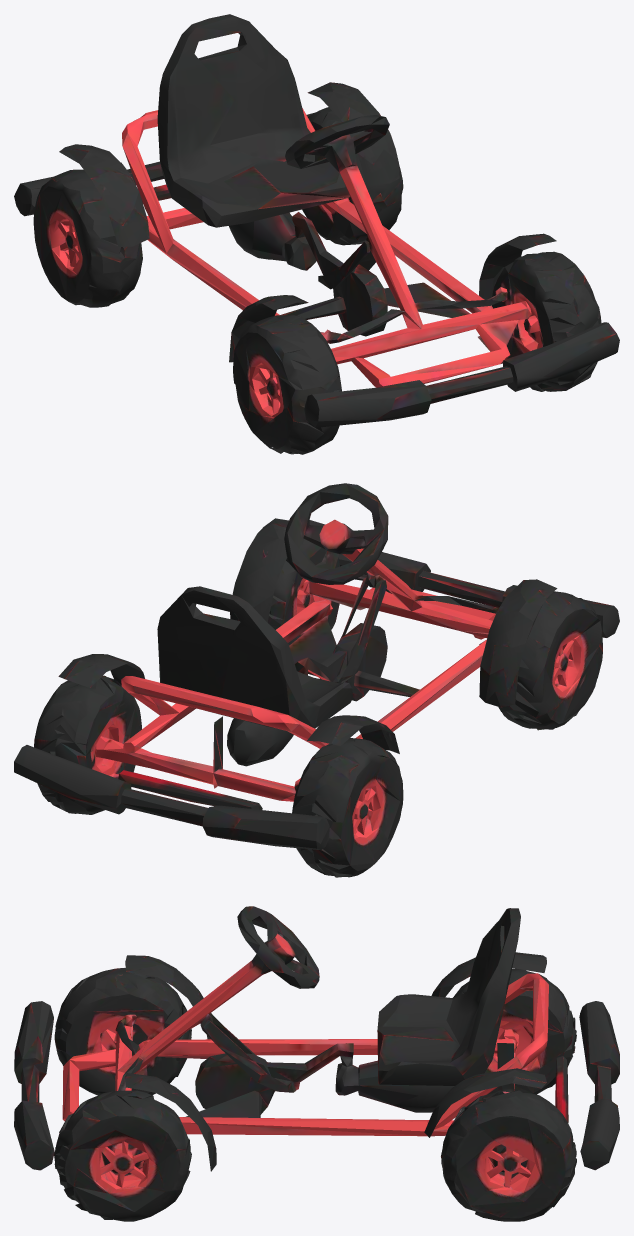
Rendered from go_kart.glb.
3 renders of one model, top to bottom at view 1: azimuth 30°, elevation 25°; view 2: azimuth 150°, elevation 25°; view 3: azimuth 270°, elevation 25°, orthographic. The views are drawn at different scales.
Parts seen in each view (by area): view 1: Mesh_0; view 2: Mesh_0; view 3: Mesh_0.
Part boxes in pixels (<box>): Mesh_0: <box>14,14,619,454</box>; Mesh_0: <box>14,483,619,877</box>; Mesh_0: <box>14,906,619,1221</box>.
Size of the model in its own units: 0.9226 by 0.7111 by 1.6.
1 material, 1 textured.
